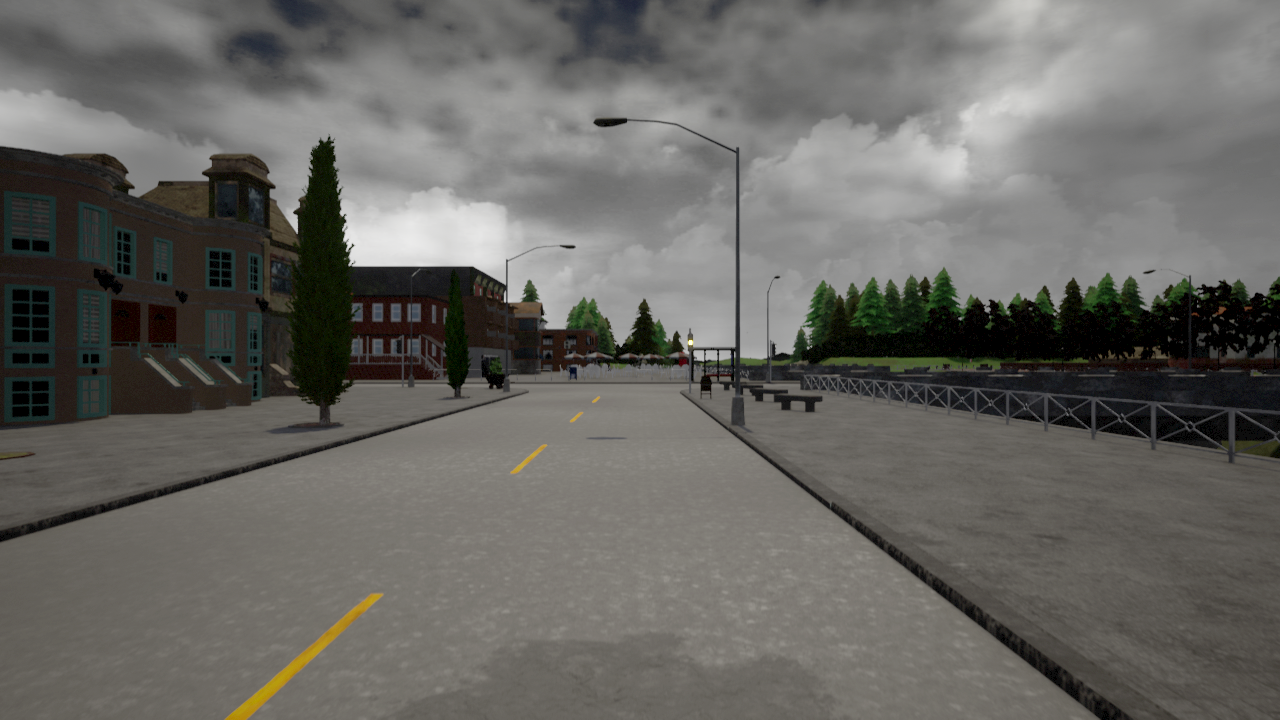yellow: (686, 333, 694, 354)
